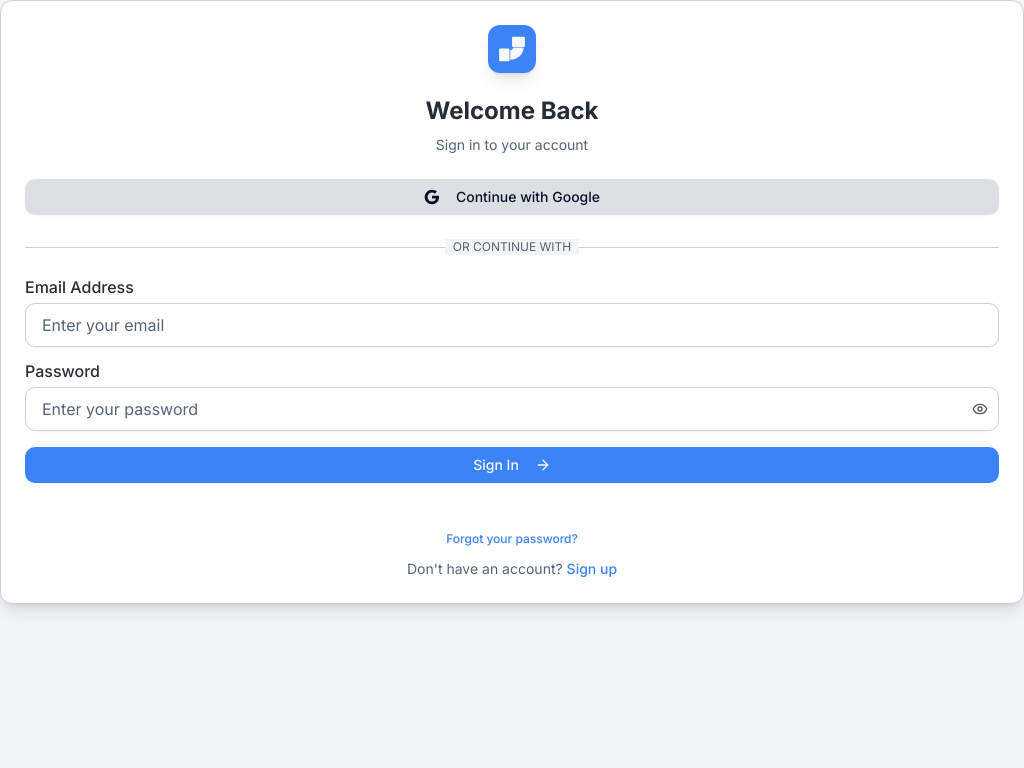
Test case: LoginForm › handles login error
Type "test@example.com" into the field labelled "Email Address".
click(512, 325); type("test@example.com")  # box [25, 303, 999, 347]
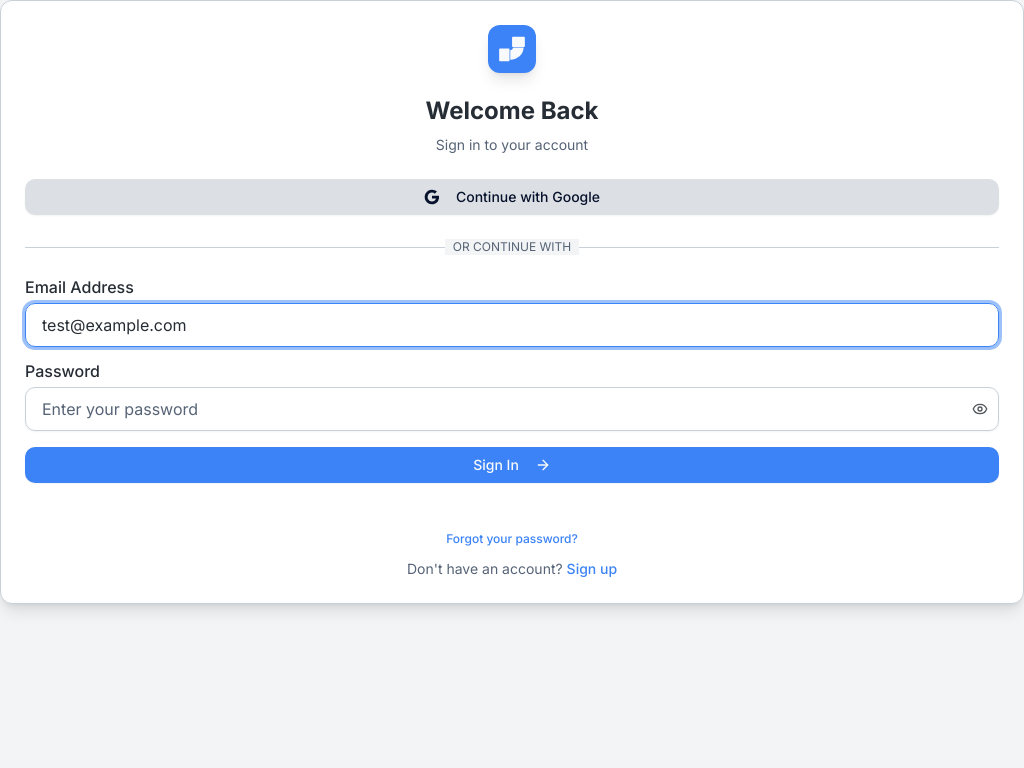
Type "wrongpassword" into the password field labelled "Password".
click(512, 409); type("wrongpassword")  # box [25, 387, 999, 431]
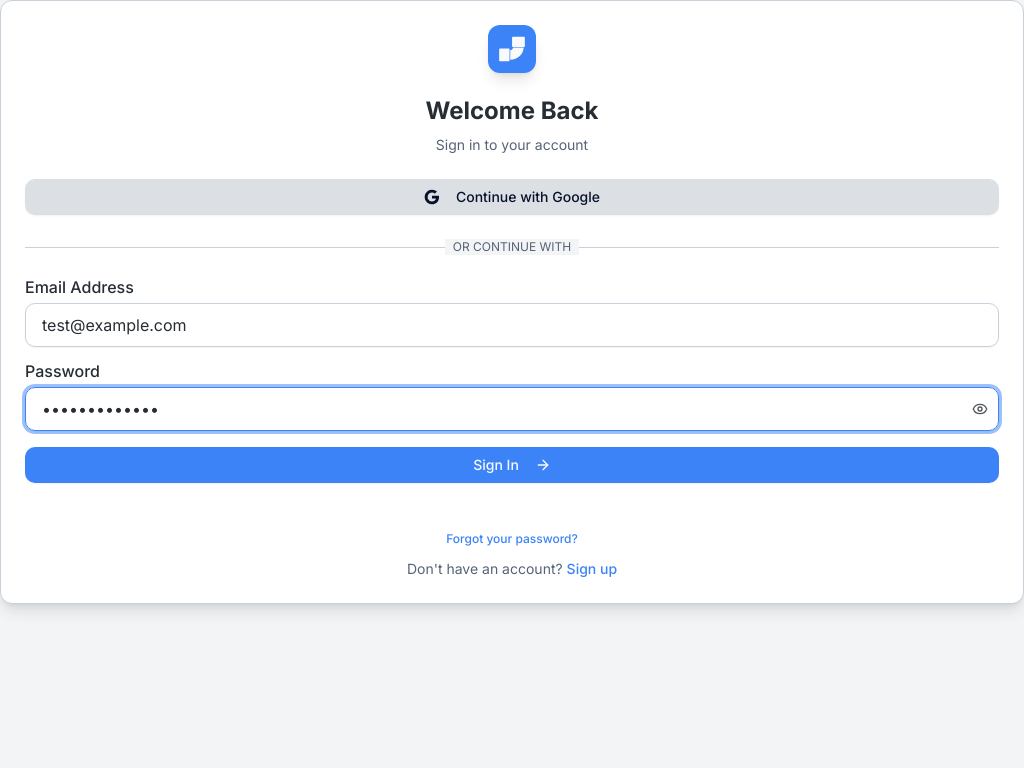
Click the button "Sign In".
click(512, 465)  # box [25, 447, 999, 483]
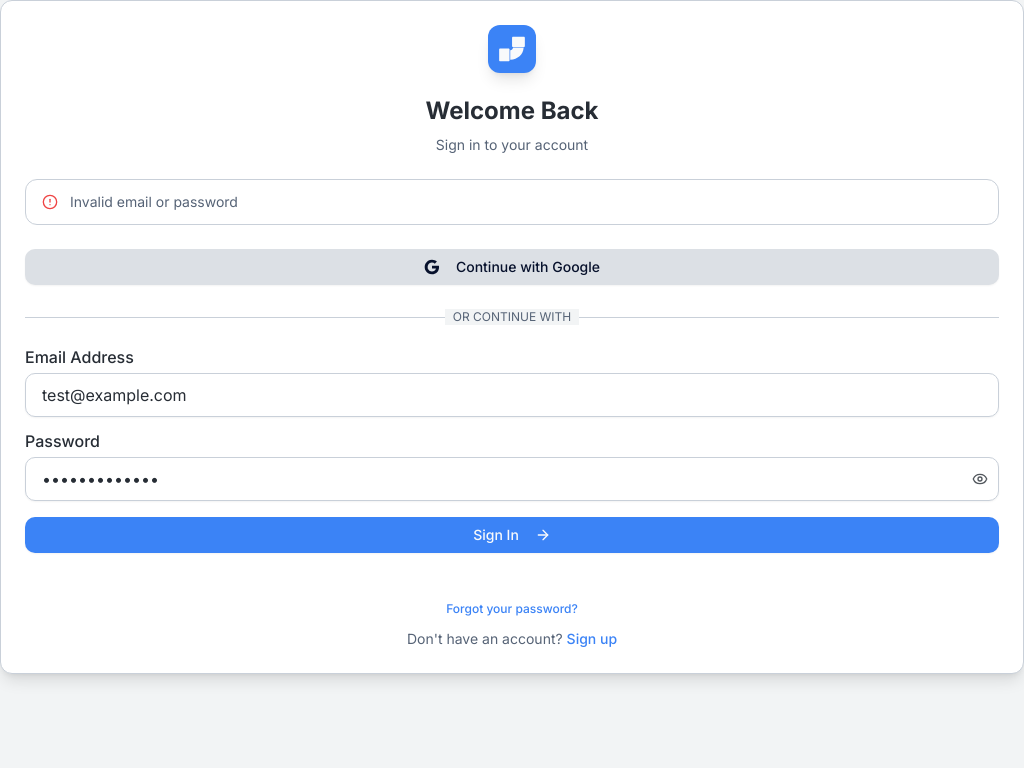
Result: the text "Invalid email or password" is shown at [70, 193, 238, 210]
